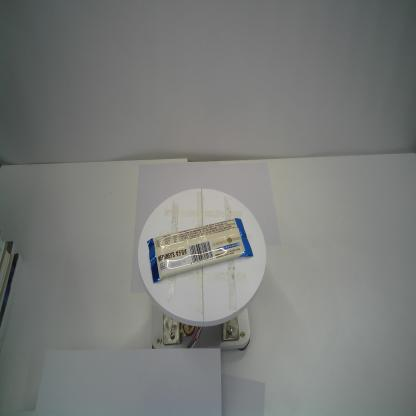Chocolate: (146, 216, 255, 286)
